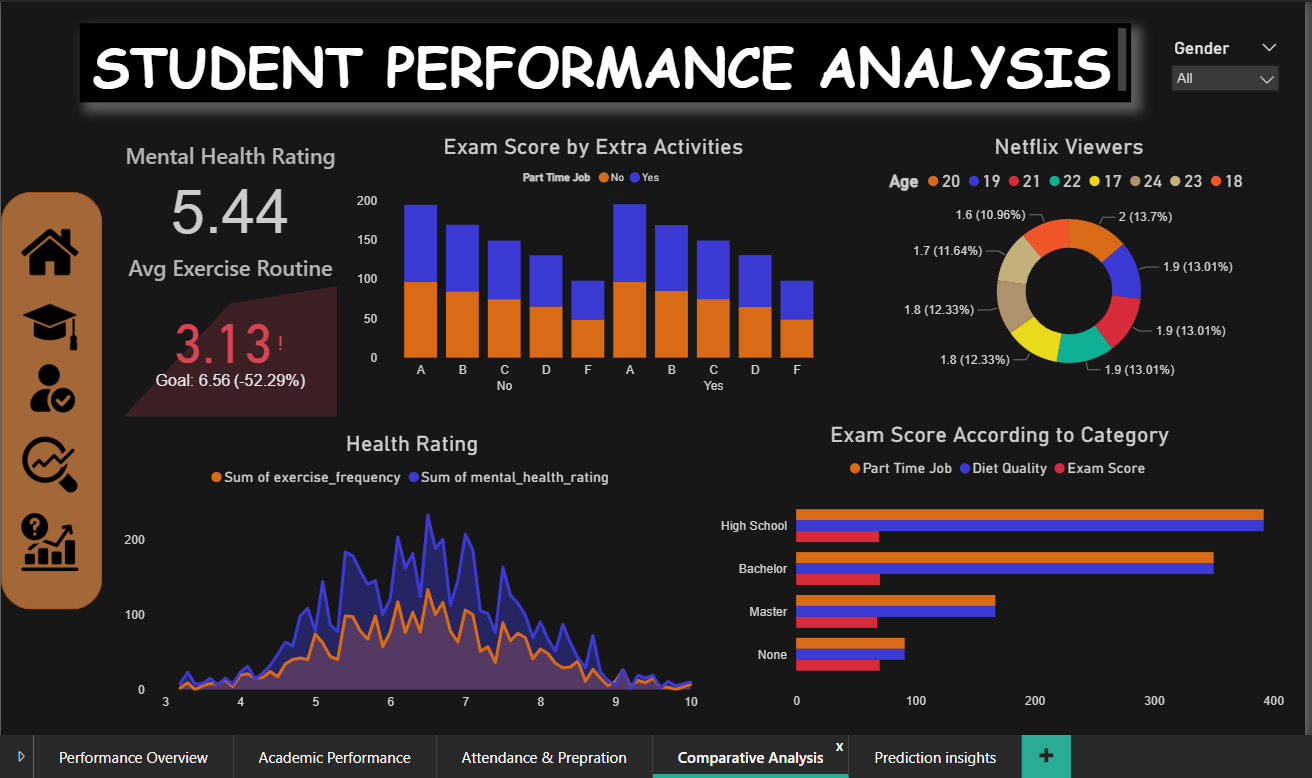

Layout of this report page (visuals, bound fields, positions):
{"tool":"powerbi","page":{"name":"Comparative Analysis","canvas":[1280,720],"ordinal":3},"visuals":[{"type":"shape","box":[0,186.5,99.4,409.8],"z":0},{"type":"textbox","box":[77.3,20.9,1031.9,77.3],"z":1000},{"type":"image","box":[0,212.3,95.7,66.3],"z":2000},{"type":"image","box":[0,285.9,95.7,66.3],"z":3000},{"type":"image","box":[3.7,346,95.7,66.3],"z":4000},{"type":"image","box":[0,420.9,95.7,66.3],"z":5000},{"type":"image","box":[0,496.9,95.7,66.3],"z":6000},{"type":"actionButton","box":[0,212.3,99.4,66.3],"z":7000},{"type":"actionButton","box":[0,278.5,99.4,73.6],"z":8000},{"type":"actionButton","box":[0,346,99.4,66.3],"z":9000},{"type":"actionButton","box":[0,420.9,99.4,66.3],"z":10000},{"type":"actionButton","box":[0,496.9,99.4,66.3],"z":11000},{"type":"clusteredBarChart","title":"Exam Score According to Category","fields":{"Y":["CountNonNull(student_habits_performance.part_time_job)","CountNonNull(student_habits_performance.diet_quality)","Avg(student_habits_performance.exam_score)"],"Category":["student_habits_performance.parental_education_level"]},"box":[695.7,412.3,569.3,289.6],"z":12000},{"type":"donutChart","title":"Netflix Viewers","fields":{"Y":["Median(student_habits_performance.netflix_hours)"],"Category":["student_habits_performance.age"]},"box":[831.9,128.8,433.1,250.3],"z":13000},{"type":"areaChart","title":"Health Rating","fields":{"Category":["student_habits_performance.sleep_hours"],"Y":["Sum(student_habits_performance.exercise_frequency)","Sum(student_habits_performance.mental_health_rating)"]},"box":[115.3,420.9,576.7,282.2],"z":14000},{"type":"columnChart","title":"Exam Score by Extra Activities","fields":{"Category":["student_habits_performance.extracurricular_participation","student_habits_performance.Grade"],"Series":["student_habits_performance.part_time_job"],"Y":["Avg(student_habits_performance.exam_score)"]},"box":[343.6,128.8,476.1,267.5],"z":15000},{"type":"kpi","title":"Avg Exercise Routine","fields":{"Indicator":["Avg(student_habits_performance.exercise_frequency)"],"TrendLine":["student_habits_performance.diet_quality"],"Goal":["Avg(student_habits_performance.sleep_hours)"]},"box":[115.3,245.4,219.6,166.9],"z":16000},{"type":"card","title":"Mental Health Rating","fields":{"Values":["Avg(student_habits_performance.mental_health_rating)"]},"box":[112.9,136.2,224.5,100.6],"z":17000},{"type":"slicer","fields":{"Values":["student_habits_performance.gender"]},"box":[1138.7,30.7,126.4,67.5],"z":18000}]}

Visuals, with their boxes on the page's 1280x720 design canvas (x1, y1, x2, y2). These are canvas units, not pixel positions in the 1312x778 screenshot, which may show the page scaled, cropped or inside an application window:
shape: <region>0, 186, 99, 596</region>
textbox: <region>77, 21, 1109, 98</region>
image: <region>0, 212, 96, 279</region>
image: <region>0, 286, 96, 352</region>
image: <region>4, 346, 99, 412</region>
image: <region>0, 421, 96, 487</region>
image: <region>0, 497, 96, 563</region>
actionButton: <region>0, 212, 99, 279</region>
actionButton: <region>0, 278, 99, 352</region>
actionButton: <region>0, 346, 99, 412</region>
actionButton: <region>0, 421, 99, 487</region>
actionButton: <region>0, 497, 99, 563</region>
"Exam Score According to Category" clusteredBarChart: <region>696, 412, 1265, 702</region>
"Netflix Viewers" donutChart: <region>832, 129, 1265, 379</region>
"Health Rating" areaChart: <region>115, 421, 692, 703</region>
"Exam Score by Extra Activities" columnChart: <region>344, 129, 820, 396</region>
"Avg Exercise Routine" kpi: <region>115, 245, 335, 412</region>
"Mental Health Rating" card: <region>113, 136, 337, 237</region>
slicer - student_habits_performance.gender: <region>1139, 31, 1265, 98</region>
